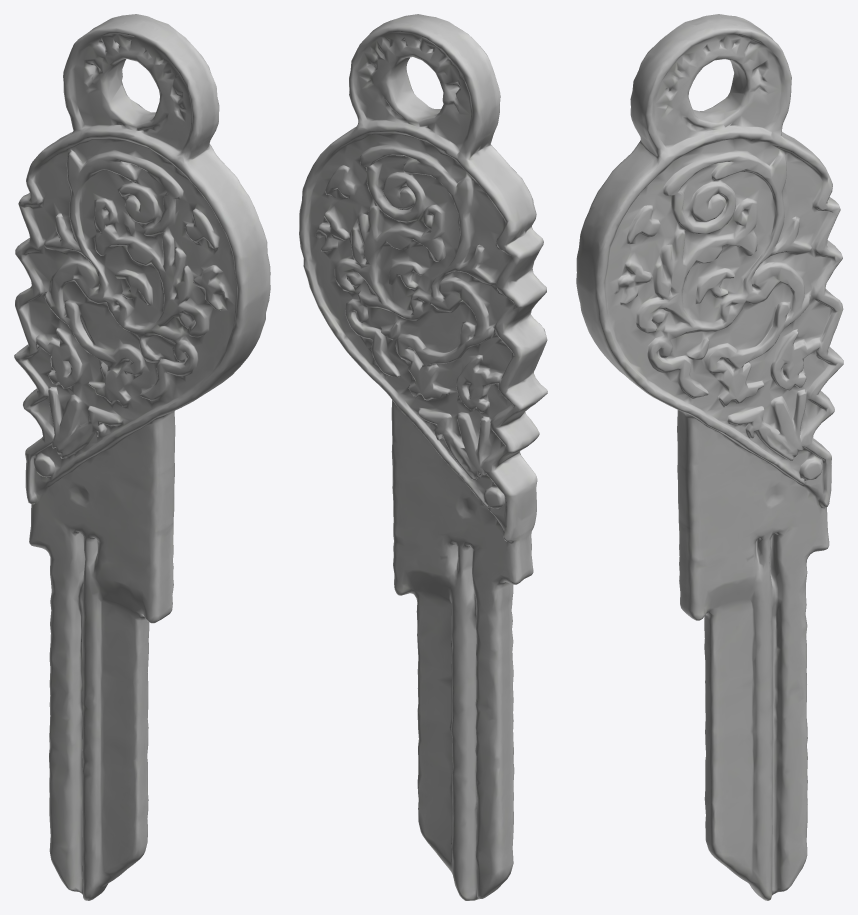
Rendered from key_left.glb.
The picture shows the model from 3 angles, left to right: view 1: azimuth 30°, elevation 25°; view 2: azimuth 210°, elevation 25°; view 3: azimuth 270°, elevation 25°; orthographic projection. The views are drawn at different scales.
Parts seen in each view (by area): view 1: tripo_node_2c1cc43c-151f-4d69-bf73-5b7ca3a353b7; view 2: tripo_node_2c1cc43c-151f-4d69-bf73-5b7ca3a353b7; view 3: tripo_node_2c1cc43c-151f-4d69-bf73-5b7ca3a353b7.
Boxes of the visible parts, bbox=[...] form: tripo_node_2c1cc43c-151f-4d69-bf73-5b7ca3a353b7: bbox=[14, 14, 270, 900]; tripo_node_2c1cc43c-151f-4d69-bf73-5b7ca3a353b7: bbox=[299, 14, 547, 900]; tripo_node_2c1cc43c-151f-4d69-bf73-5b7ca3a353b7: bbox=[576, 14, 843, 900].
Bounding box in the file's own units: 0.1704 × 1 × 0.2728.
Materials: 1 (1 with a texture image).
